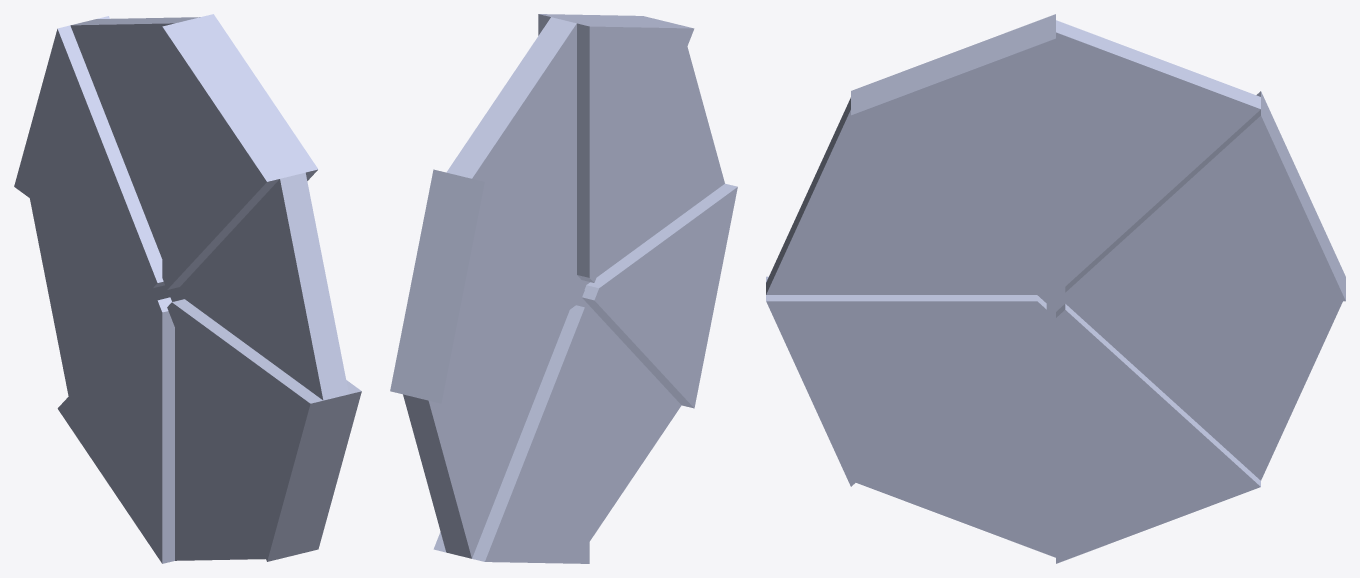
File: Back Decoration 2.FBX
The picture shows the model from 3 angles, left to right: view 1: azimuth 30°, elevation 25°; view 2: azimuth 150°, elevation 25°; view 3: azimuth 270°, elevation 25°; orthographic projection. The views are drawn at different scales.
Visible parts, largest first — view 1: Mirror4; view 2: Mirror4; view 3: Mirror4.
Part boxes in pixels (x1,y1,x2,y2): Mirror4: [14, 14, 361, 563]; Mirror4: [390, 14, 737, 563]; Mirror4: [766, 14, 1345, 563].
Size of the model in its own units: 0.5 by 5 by 5.
